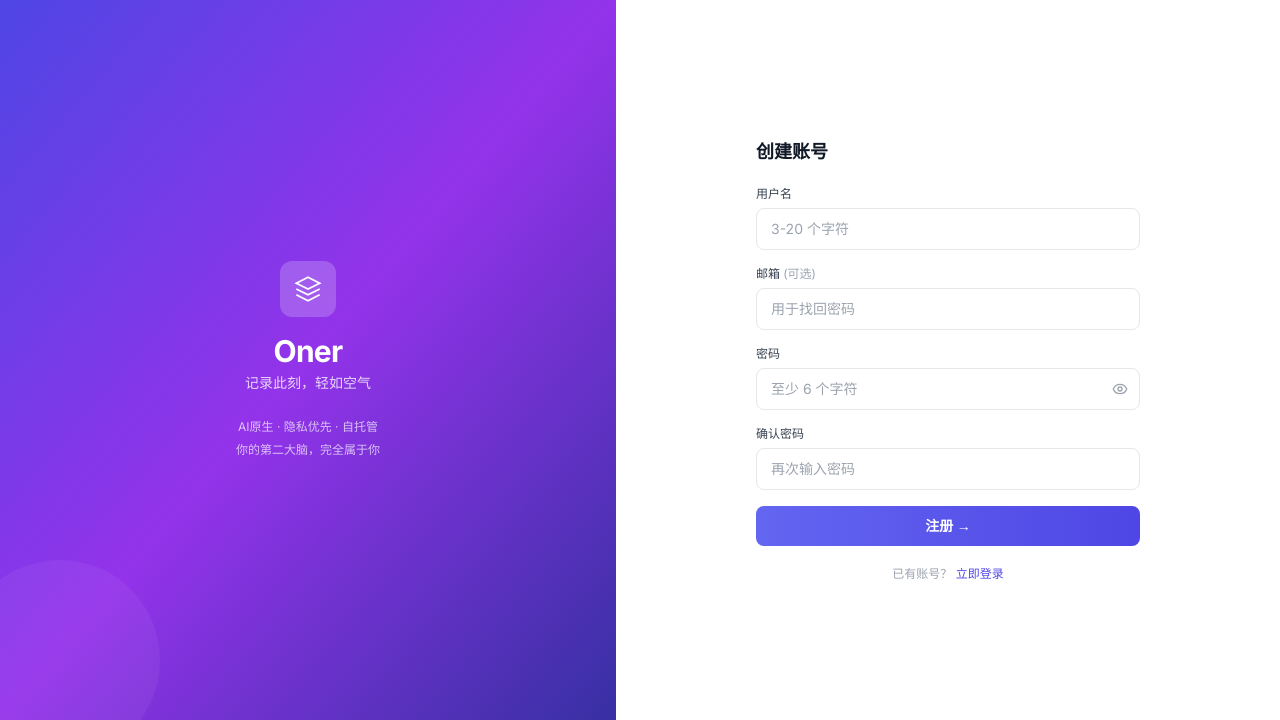
Test: Register Page › RP-02: 空表单提交显示错误
The width and height of the screenshot is (1280, 720).
Click the button "注册 →" at (948, 526), box [756,506,1140,546]
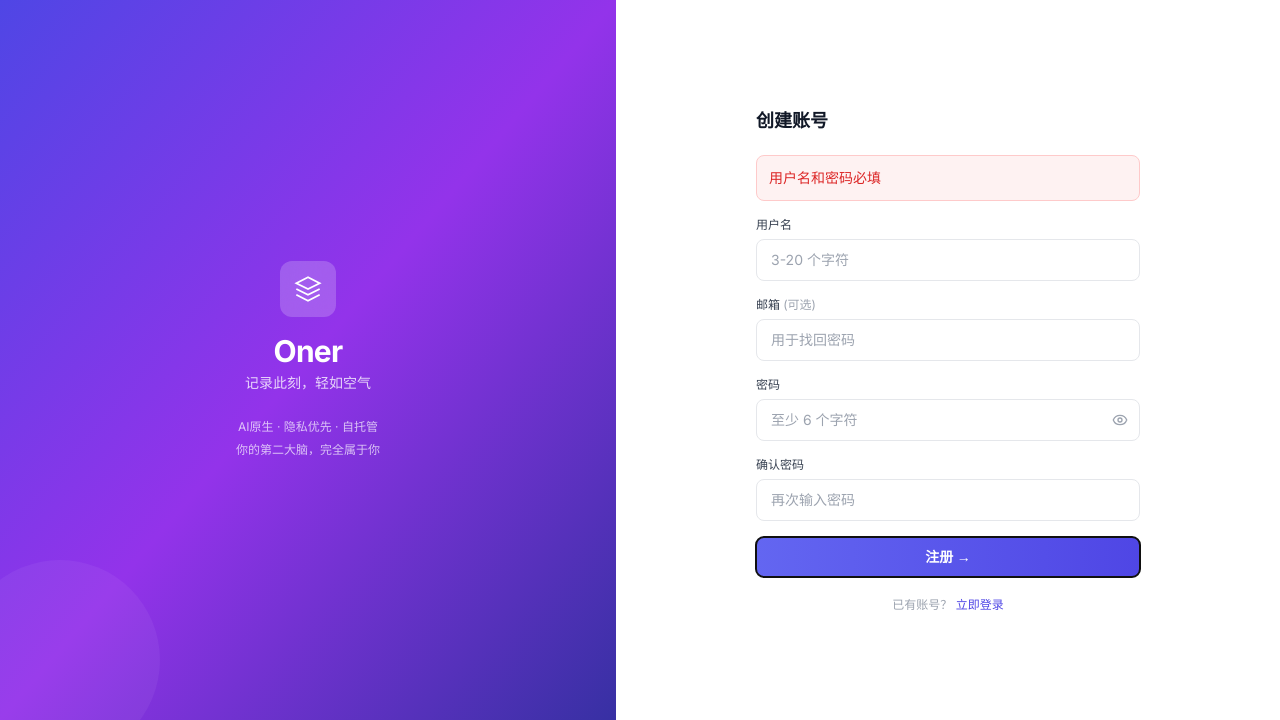
Expected: the text "用户名和密码必填" is shown, [756,155,1140,201]
